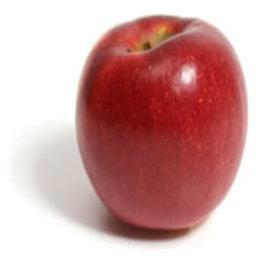apple: (72, 13, 246, 228)
